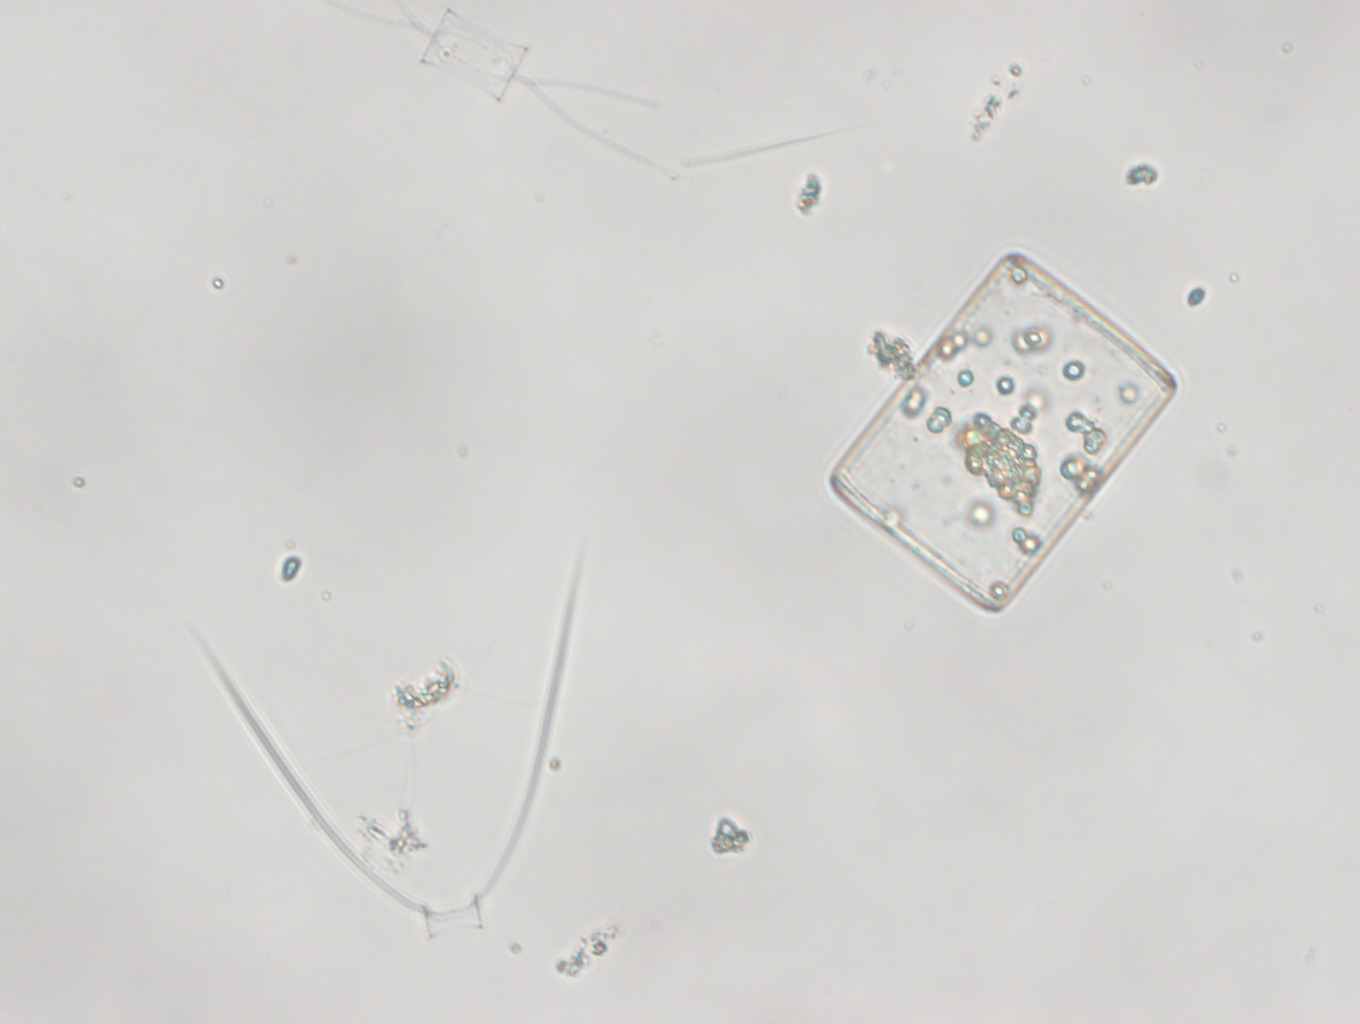chaetoceros: (187, 541, 586, 945), (323, 3, 679, 181)
guinardia flaccida: (828, 250, 1180, 618)
